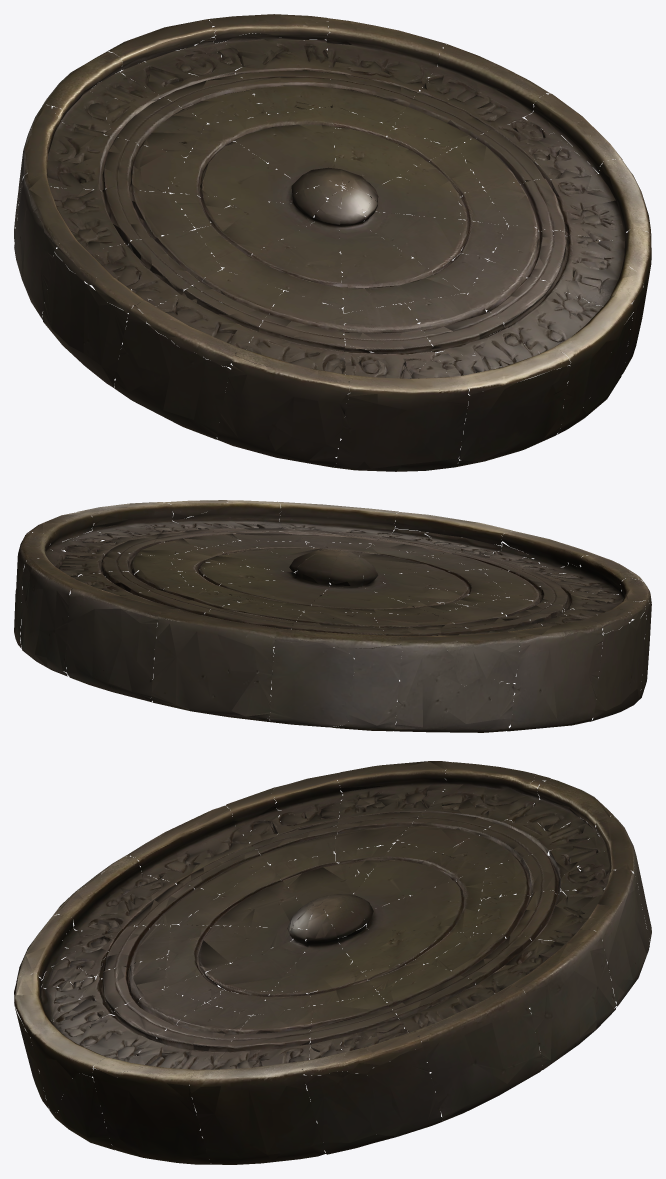
The model's file is sunward-compass-slim.glb.
3 renders of one model, top to bottom at view 1: azimuth 30°, elevation 25°; view 2: azimuth 150°, elevation 25°; view 3: azimuth 270°, elevation 25°, orthographic.
Parts seen in each view (by area): view 1: tripo_node_63bf3af1-4113-4394-aecd-265ac80eda0b; view 2: tripo_node_63bf3af1-4113-4394-aecd-265ac80eda0b; view 3: tripo_node_63bf3af1-4113-4394-aecd-265ac80eda0b.
Boxes of the visible parts, x1=… form: tripo_node_63bf3af1-4113-4394-aecd-265ac80eda0b: x1=14, y1=14, x2=651, y2=471; tripo_node_63bf3af1-4113-4394-aecd-265ac80eda0b: x1=14, y1=500, x2=651, y2=732; tripo_node_63bf3af1-4113-4394-aecd-265ac80eda0b: x1=14, y1=761, x2=651, y2=1164.
Size of the model in its own units: 0.999 by 0.3836 by 1.
Materials: 1 (1 with a texture image).
